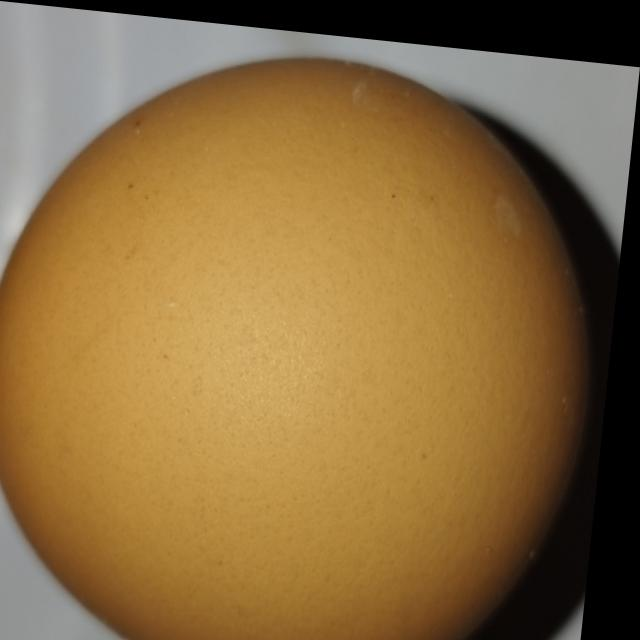fresh: (0, 20, 639, 640)
